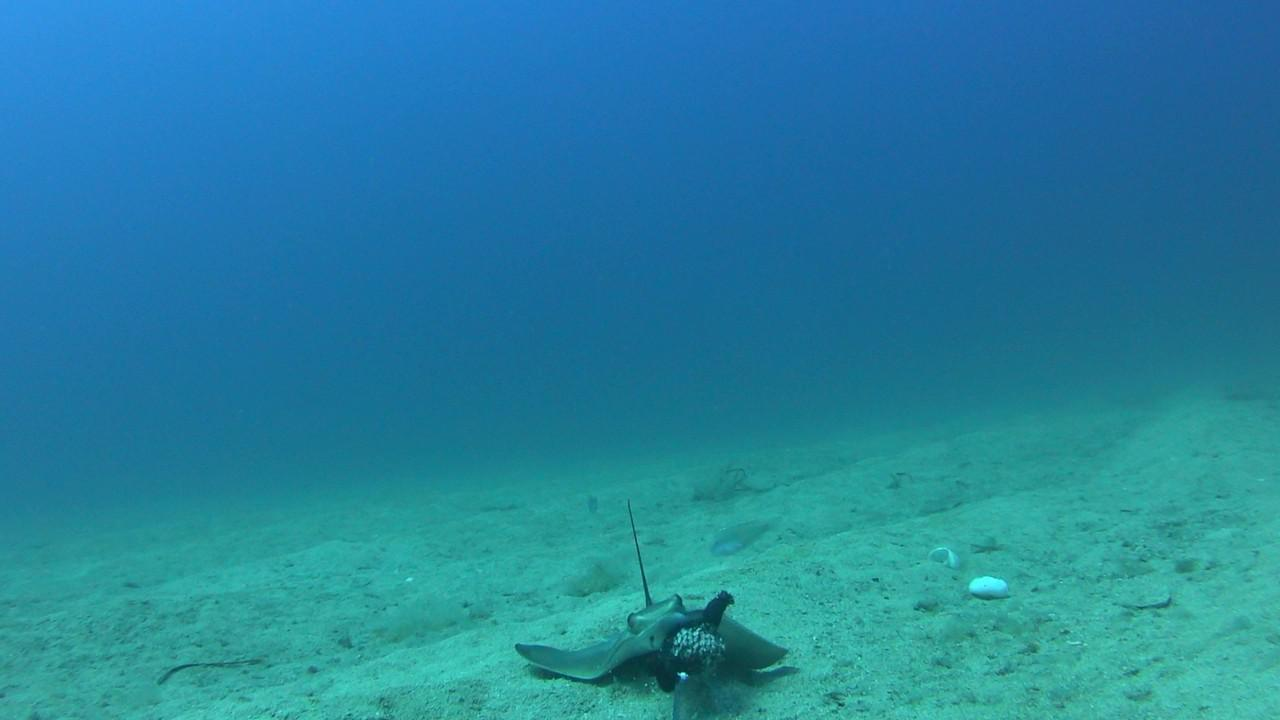myliobatis: (509, 494, 796, 679)
raor: (710, 513, 787, 561)
